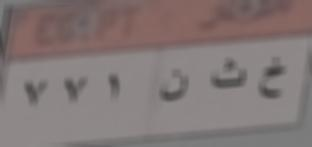1: (104, 68, 125, 109)
7: (61, 69, 90, 110), (21, 77, 50, 114)
khaa: (257, 54, 288, 108)
noon: (158, 67, 191, 108)
thaa: (208, 54, 249, 95)
